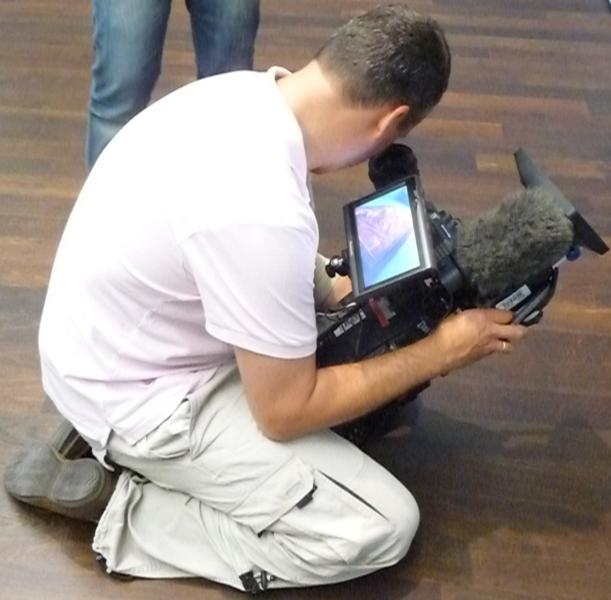person: (6, 8, 533, 596)
